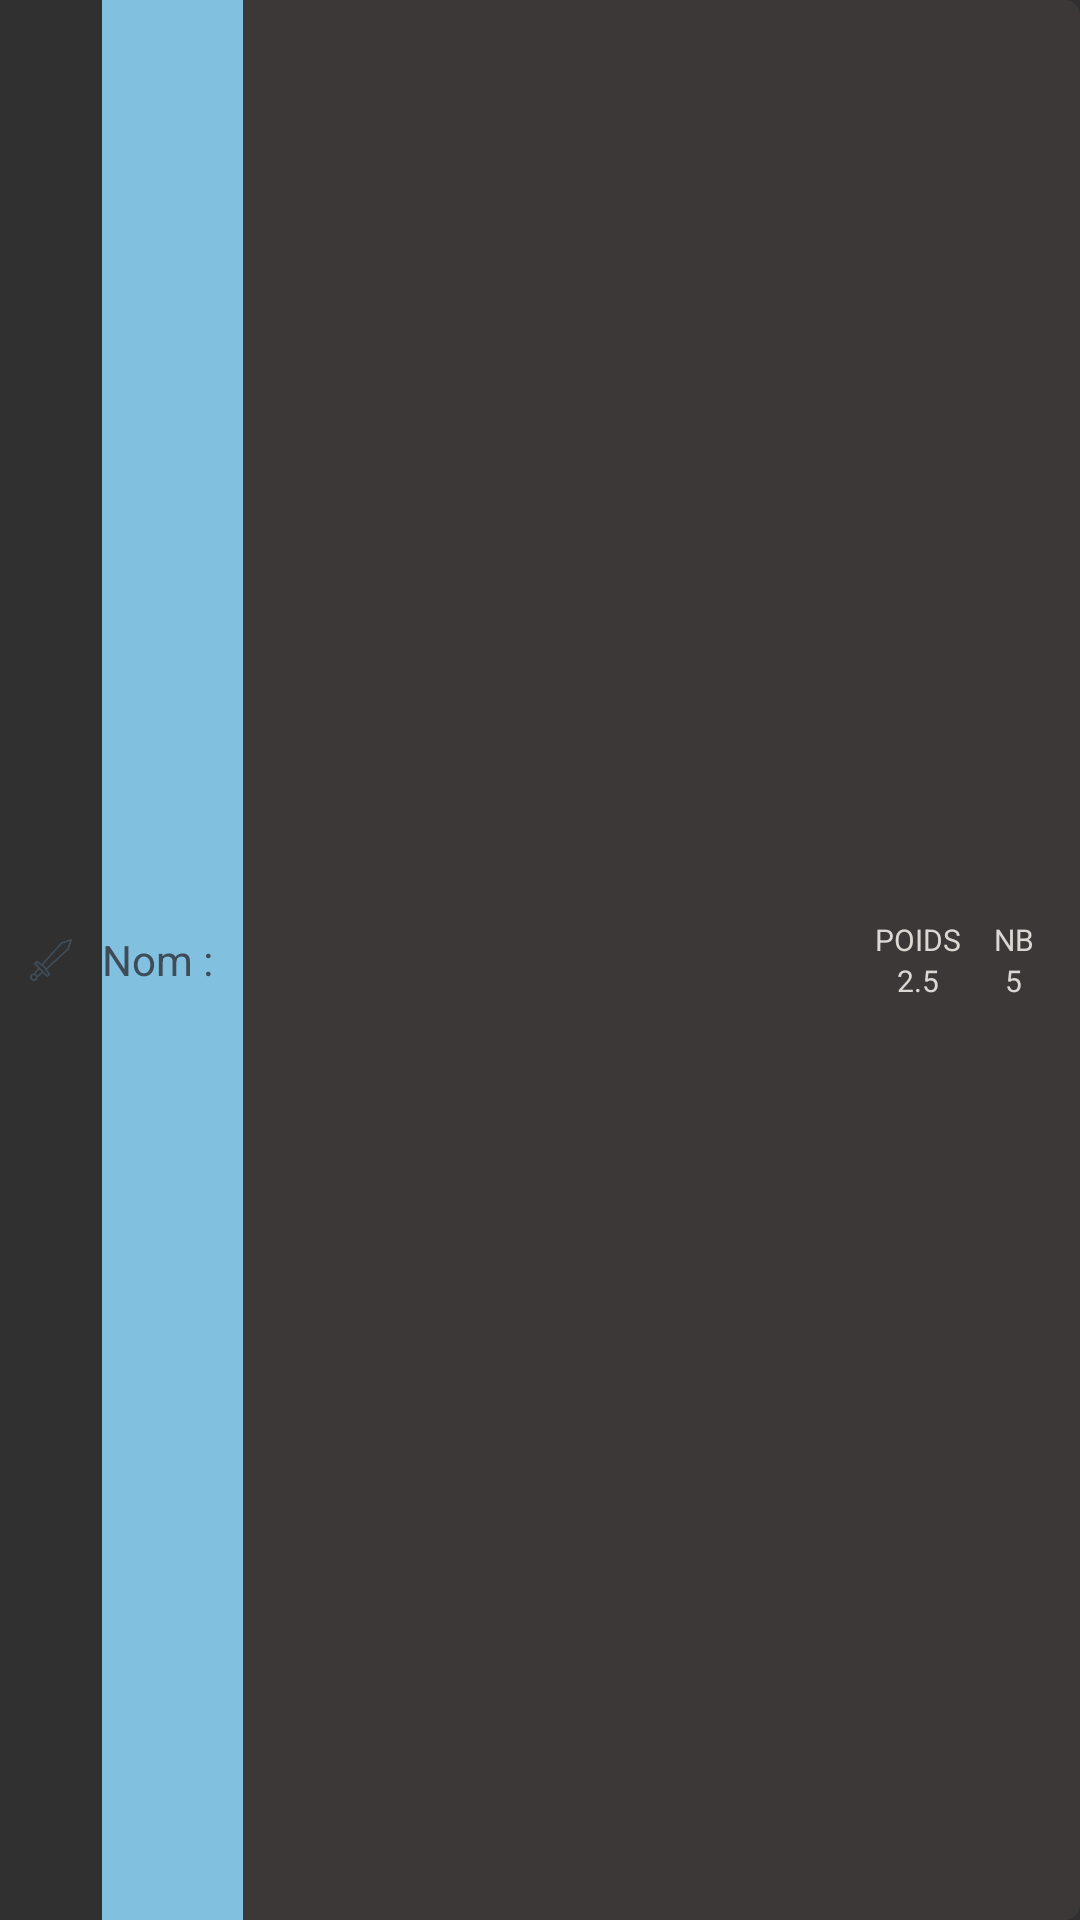

Where to tap for icons on this 1080*1920 app screen, as (x=x, y=y):
weapon: (x=51, y=960)
